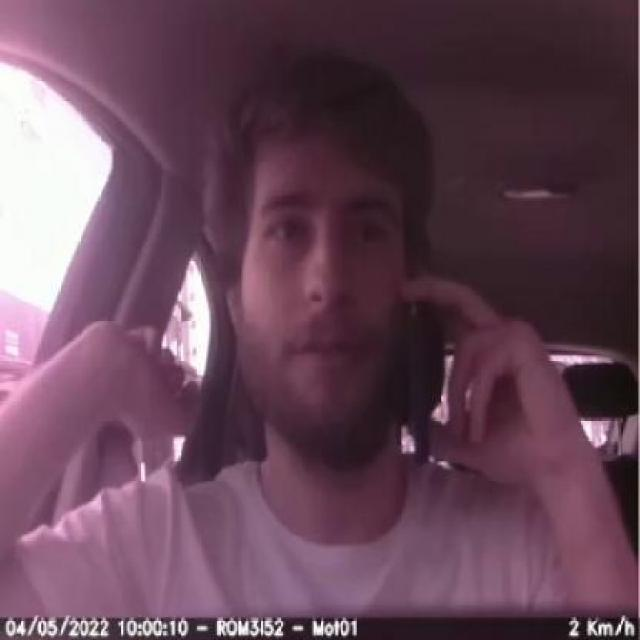using_phone: (315, 220, 530, 504)
